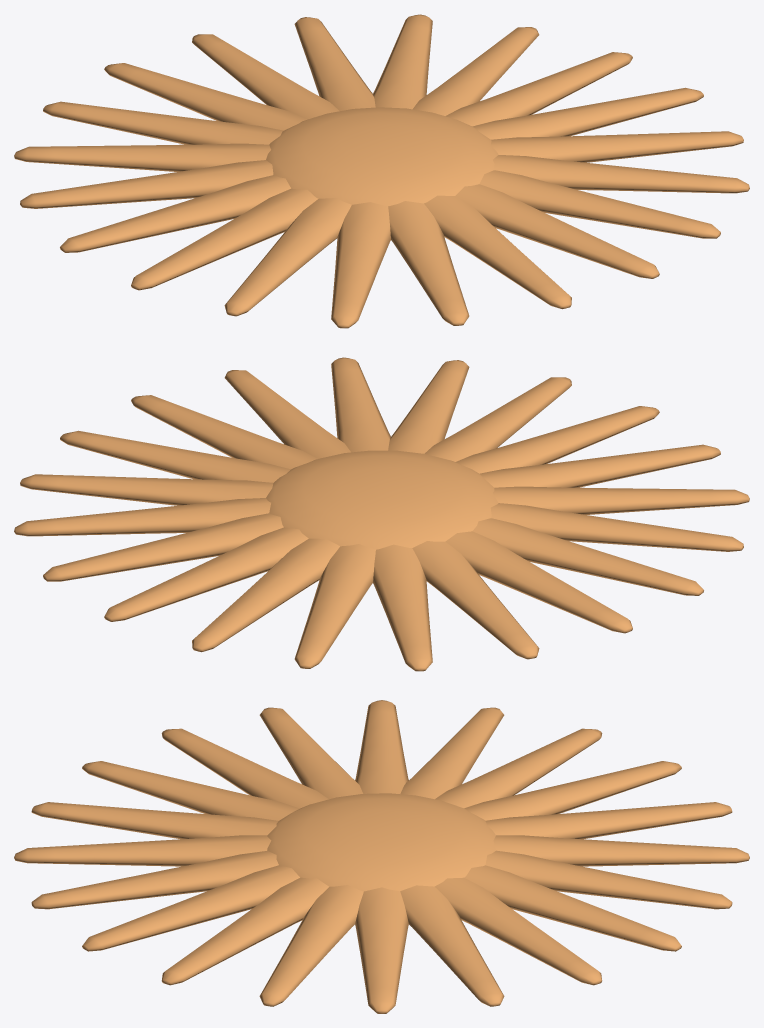
Rendered from starfish_sunflower_game.glb.
3 renders of one model, top to bottom at view 1: azimuth 30°, elevation 25°; view 2: azimuth 150°, elevation 25°; view 3: azimuth 270°, elevation 25°, orthographic.
Visible parts, largest first — view 1: starfish_sunflower_game; view 2: starfish_sunflower_game; view 3: starfish_sunflower_game.
Part boxes in pixels (bbox=[...]): starfish_sunflower_game: bbox=[14, 14, 749, 328]; starfish_sunflower_game: bbox=[14, 357, 749, 671]; starfish_sunflower_game: bbox=[14, 700, 749, 1013].
Size of the model in its own units: 0.58 by 0.0302 by 0.58.
